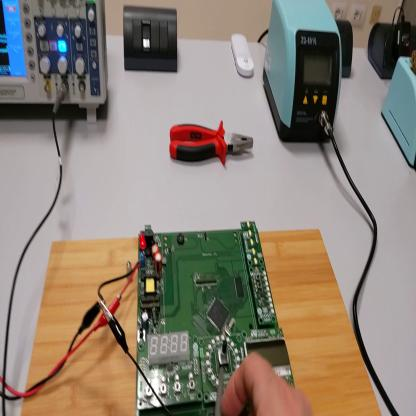hand: (223, 355, 313, 416)
low voltage board: (100, 217, 297, 416)
oscilloscope: (1, 2, 110, 124)
oscilloscope probe tip: (212, 364, 224, 416)
pliers: (168, 119, 257, 169)
socket: (369, 19, 415, 80), (336, 19, 353, 78)
welder base: (381, 41, 415, 167)
welder station: (267, 2, 343, 148)
working area: (22, 204, 383, 415)
